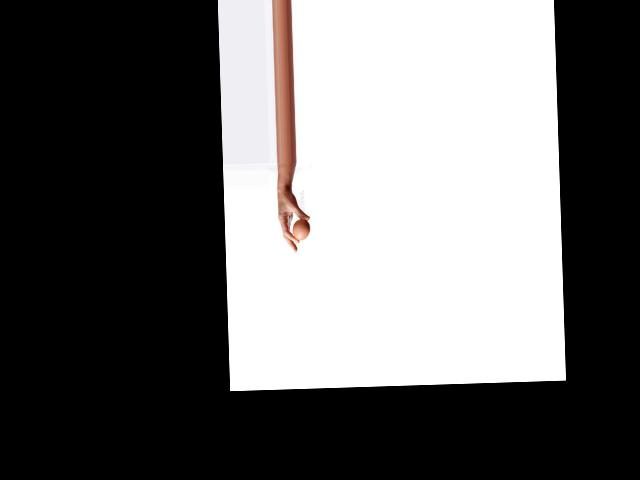egg: (293, 218, 310, 240)
